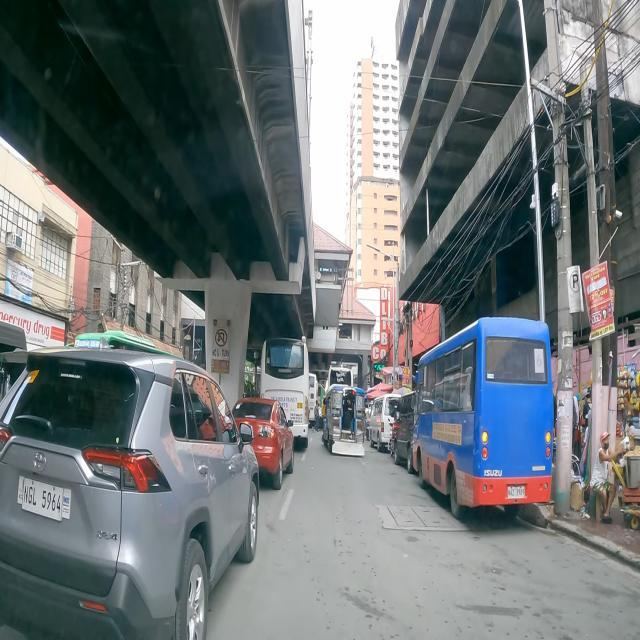bus: (411, 317, 554, 519), (260, 339, 310, 447), (328, 366, 353, 389), (308, 374, 318, 426), (318, 384, 326, 414)
car: (0, 348, 259, 640), (233, 397, 294, 489), (369, 394, 401, 452)
jeepney: (322, 384, 364, 456)
motorcycle: (388, 419, 394, 457)
